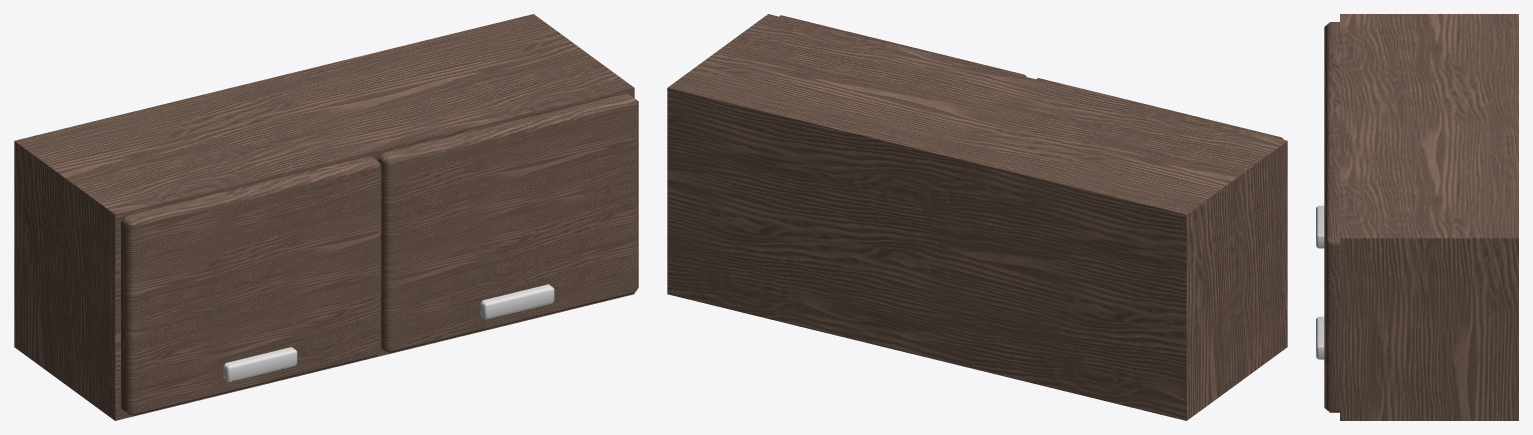
Rendered from kitchen_023.fbx.
The picture shows the model from 3 angles, left to right: view 1: azimuth 30°, elevation 25°; view 2: azimuth 150°, elevation 25°; view 3: azimuth 270°, elevation 25°; orthographic projection. The views are drawn at different scales.
Parts seen in each view (by area): view 1: kitchen_023; view 2: kitchen_023; view 3: kitchen_023.
Part boxes in pixels (x1,y1,x2,y2): kitchen_023: (14, 14, 638, 420); kitchen_023: (667, 14, 1287, 420); kitchen_023: (1316, 14, 1518, 420).
Size of the model in its own units: 148 by 56.53 by 56.17.
